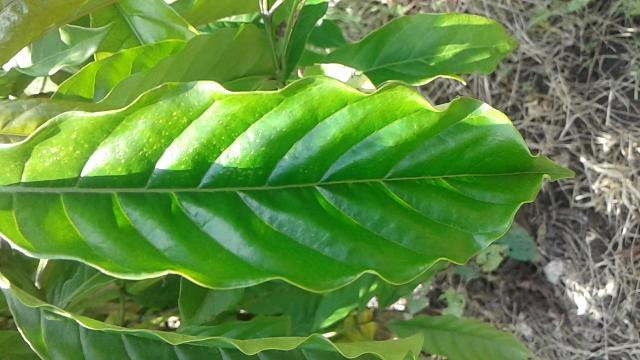healthy: (0, 72, 580, 295)
